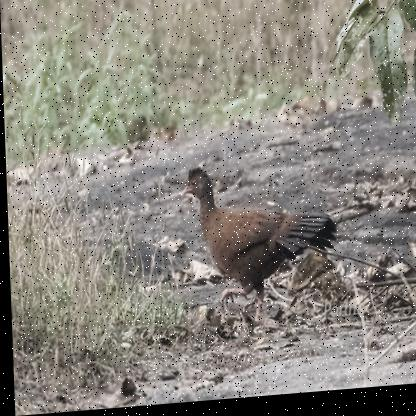Burung: (180, 162, 337, 336)
